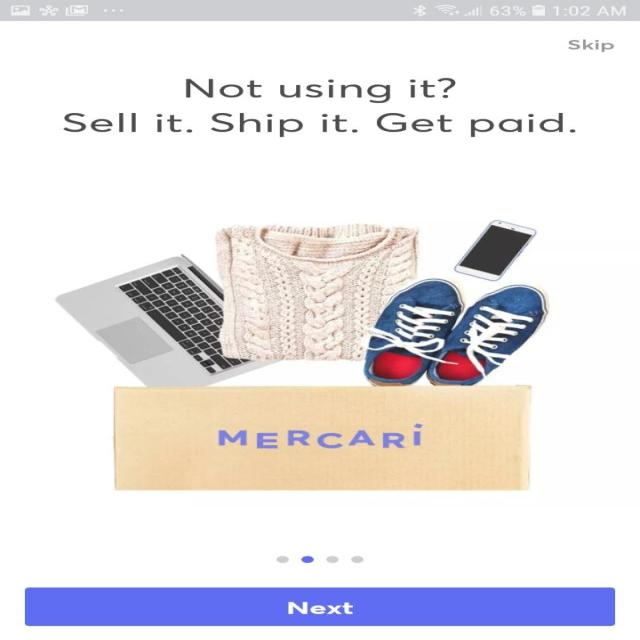Image: (54, 219, 551, 491)
Text: (62, 77, 575, 137), (566, 39, 614, 52)
TextButton: (24, 587, 615, 626)
